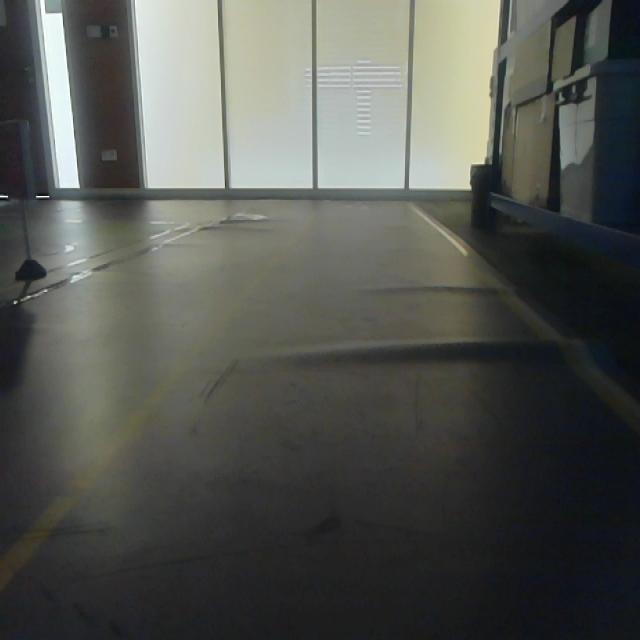left_lane: (0, 210, 318, 596)
right_lane: (410, 204, 640, 434)
